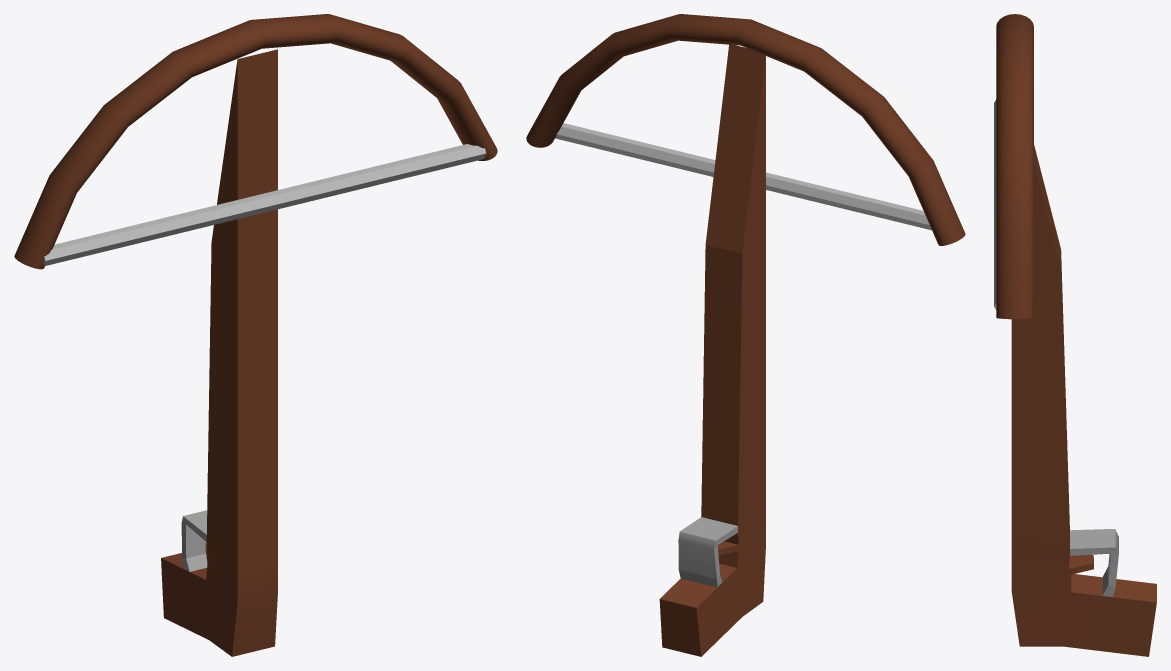
File: Modelo besta.fbx
3 renders of one model, left to right at view 1: azimuth 30°, elevation 25°; view 2: azimuth 150°, elevation 25°; view 3: azimuth 270°, elevation 25°, orthographic. The views are drawn at different scales.
Visible parts, largest first — view 1: pCube6, pTorus2, pCylinder27; view 2: pCube6, pTorus2, pCylinder27; view 3: pCube6, pTorus2, pCylinder27.
Boxes of the visible parts, <box> form: pCube6: <box>161,49,277,656</box>; pTorus2: <box>14,14,497,269</box>; pCylinder27: <box>44,144,486,266</box>; pCube6: <box>659,44,765,656</box>; pTorus2: <box>526,14,965,245</box>; pCylinder27: <box>555,123,931,230</box>; pCube6: <box>1011,145,1156,656</box>; pTorus2: <box>996,14,1033,319</box>; pCylinder27: <box>994,99,996,309</box>.
Bounding box in the file's own units: 0.9155 × 1.18 × 0.2862.
